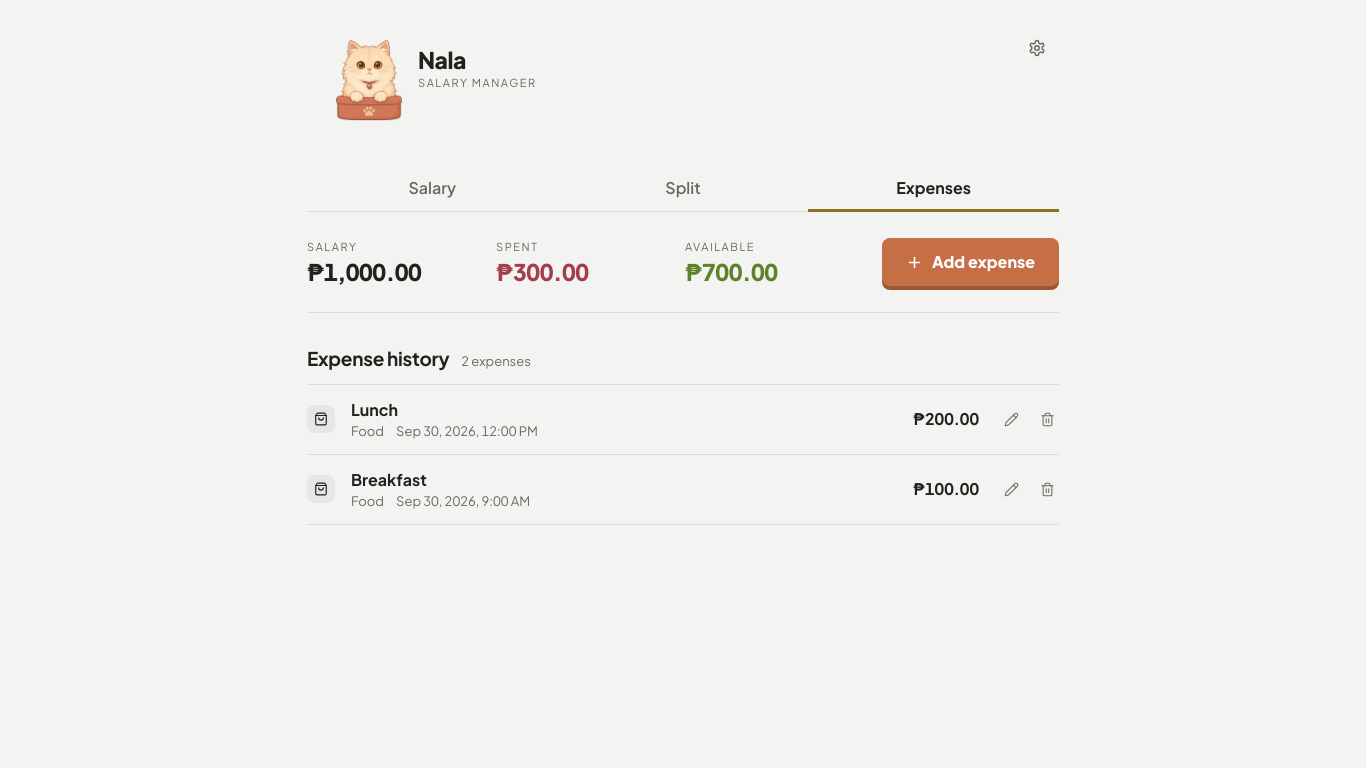
Scenario: expense tracking in App › edits an expense in place from its edit button
Check: the text "Lunch" is shown, box [351,398,398,420]
Click the button named "edit lunch": (1011, 419) [989,397,1033,441]
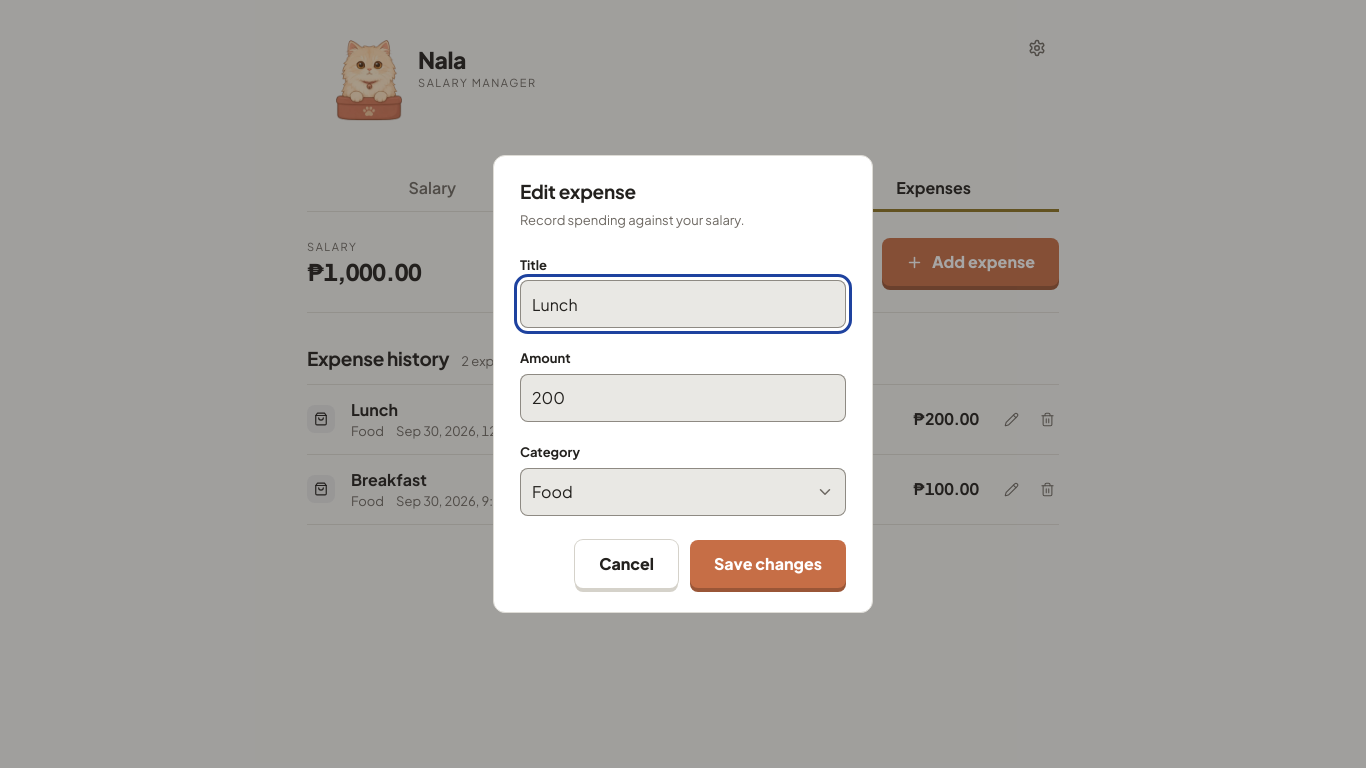
Check: the dialog "Edit expense" is shown, box [493,156,873,613]
Check: the field labelled "Amount" holds "200", box [520,374,846,422]
Replace the text in the field labelled "Title" with "Late lunch": (683, 304) [520,280,846,328]
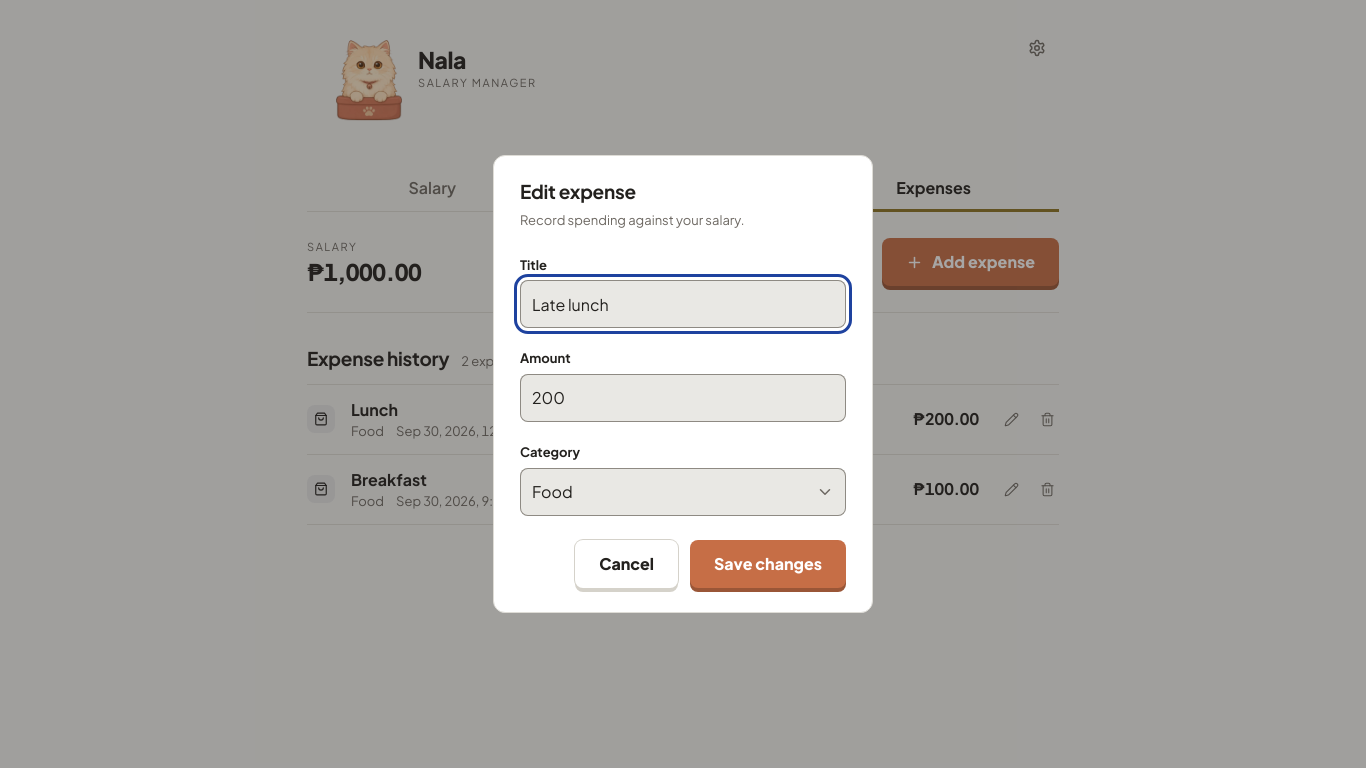
Replace the text in the field labelled "Amount" with "250": (683, 398) [520,374,846,422]
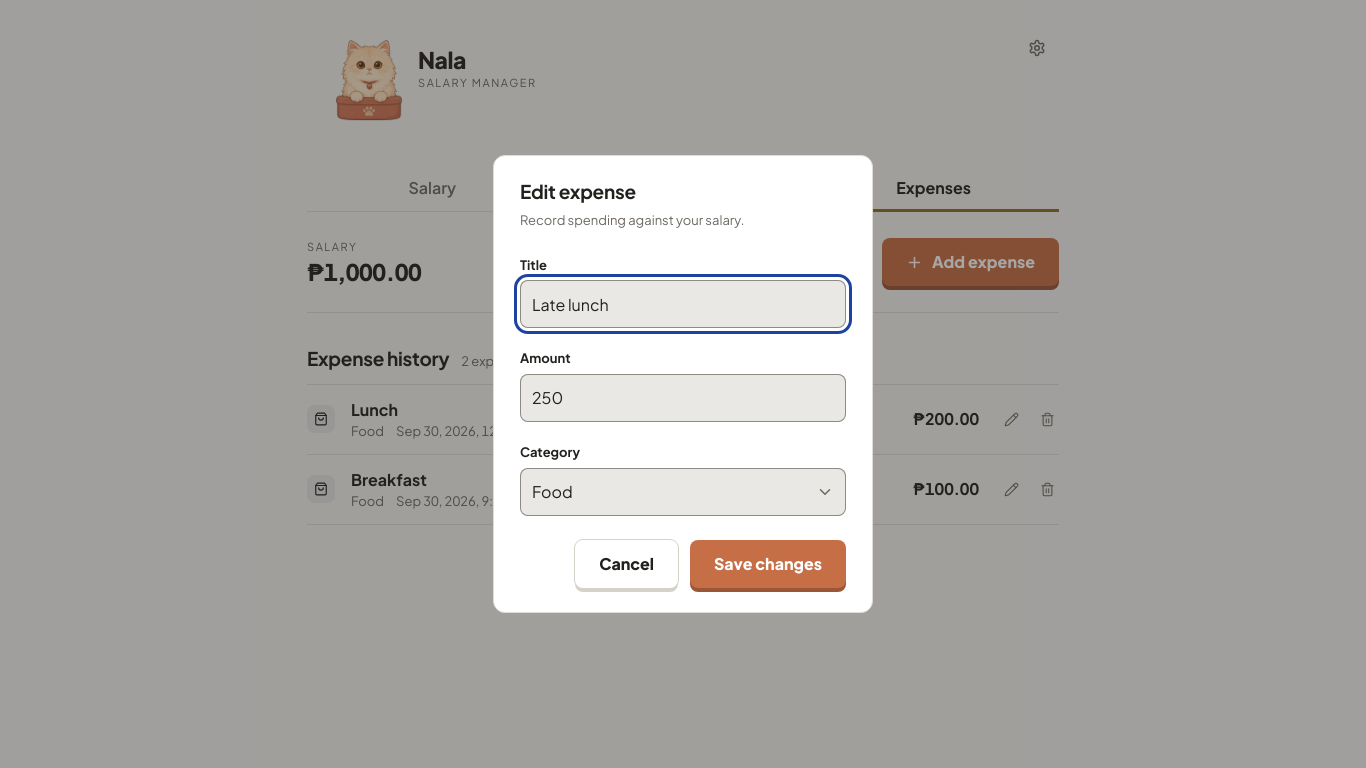
Click the button "Save changes": (768, 564) [690,540,846,588]
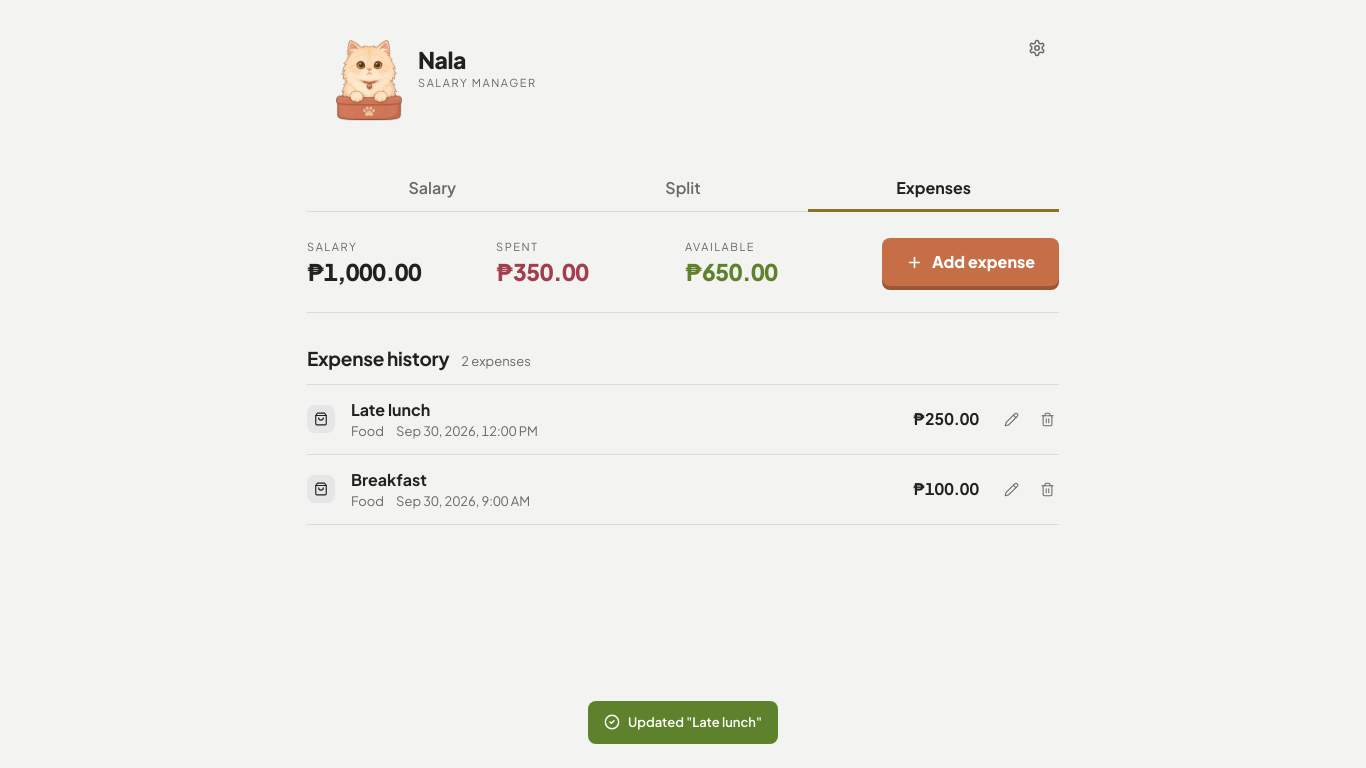
Check: the dialog is gone
Check: the text "Late lunch" is shown, box [351,398,430,420]
